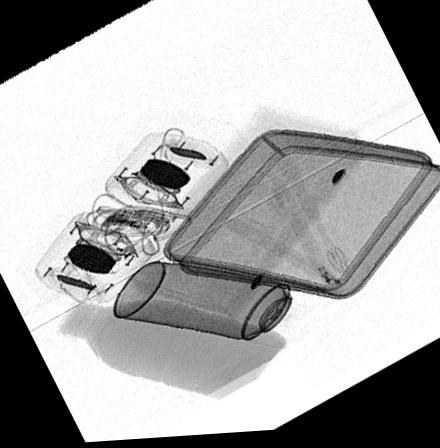Sprayer: (111, 262, 330, 353)
